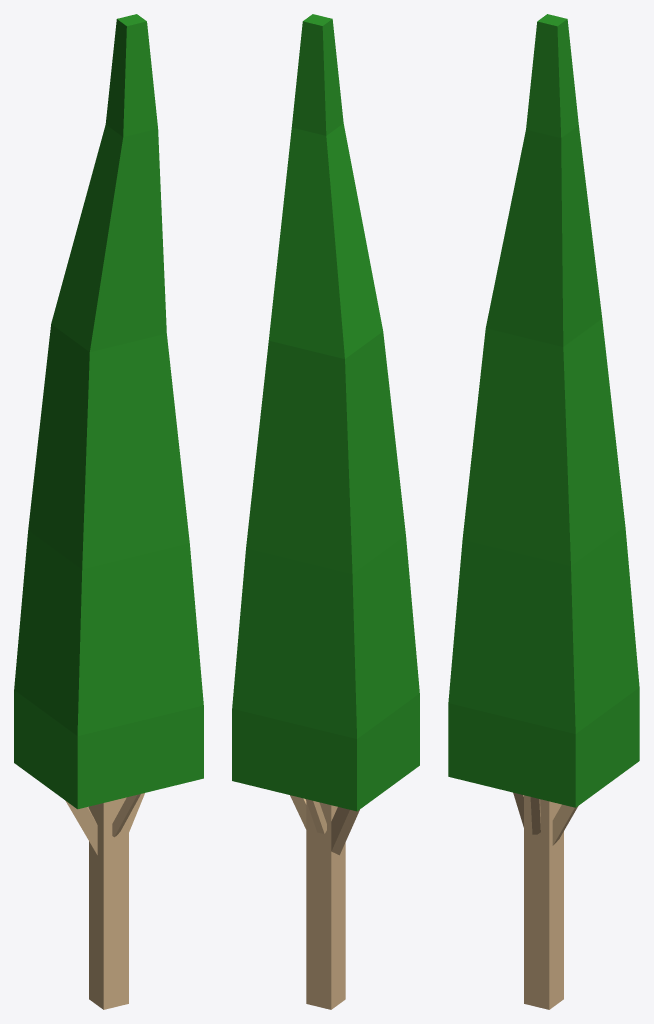
The model's file is arbol2.glb.
3 renders of one model, left to right at view 1: azimuth 30°, elevation 25°; view 2: azimuth 150°, elevation 25°; view 3: azimuth 330°, elevation 25°, orthographic.
Visible parts, largest first — view 1: Cube.005, Cube, Cube.003, Cube.004; view 2: Cube.005, Cube, Cube.003; view 3: Cube.005, Cube, Cube.002.
Part boxes in pixels (x1,y1,x2,y2): Cube.005: (14,14,203,809); Cube: (89,797,128,1009); Cube.003: (66,801,97,854); Cube.004: (112,794,140,837); Cube.005: (232,14,419,811); Cube: (306,802,345,1009); Cube.003: (331,807,359,855); Cube.005: (448,14,639,807); Cube: (524,795,563,1009); Cube.002: (552,804,578,845).
Bounding box in the file's own units: 5 × 37.21 × 4.35.
